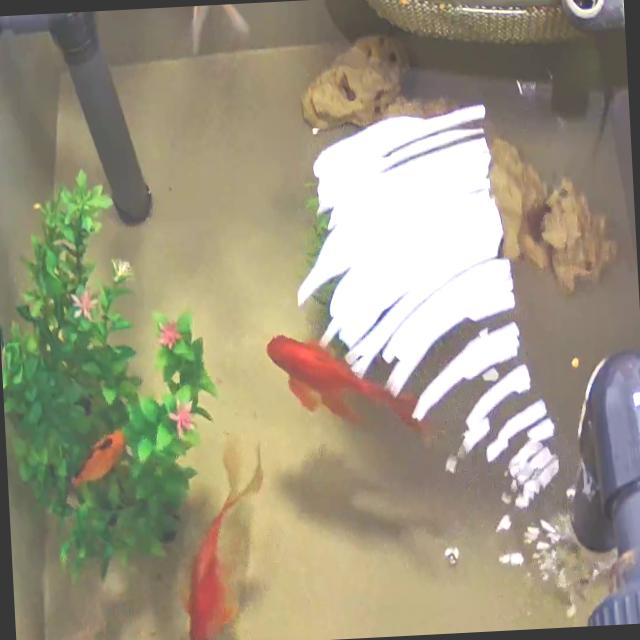fish: (250, 304, 440, 459), (172, 437, 268, 640), (133, 4, 240, 45), (68, 429, 128, 488)
